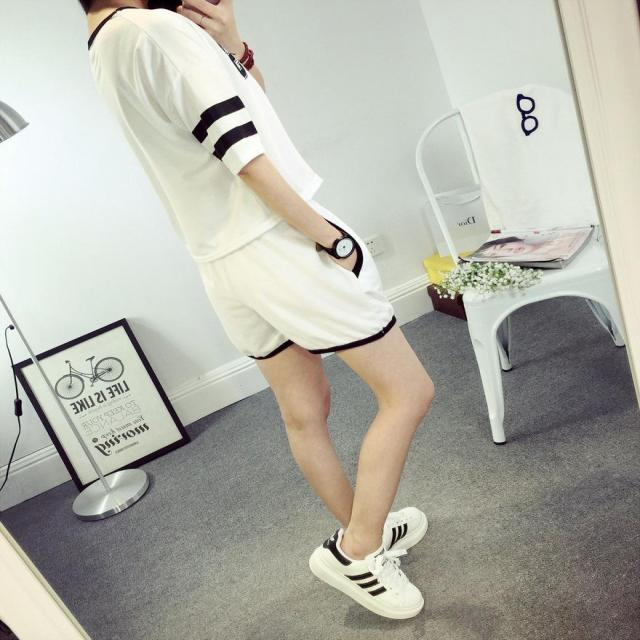short sleeve top: (128, 41, 324, 260)
shorts: (193, 191, 395, 355)
